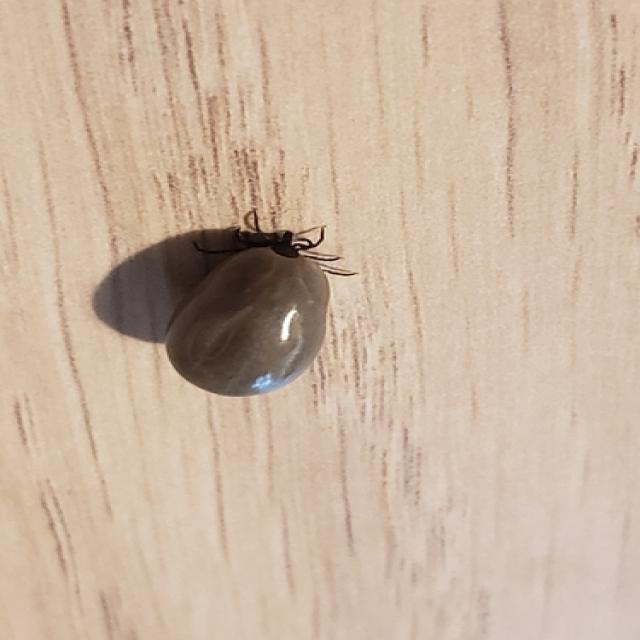Ixodes Ricinus-F: (166, 207, 360, 397)
